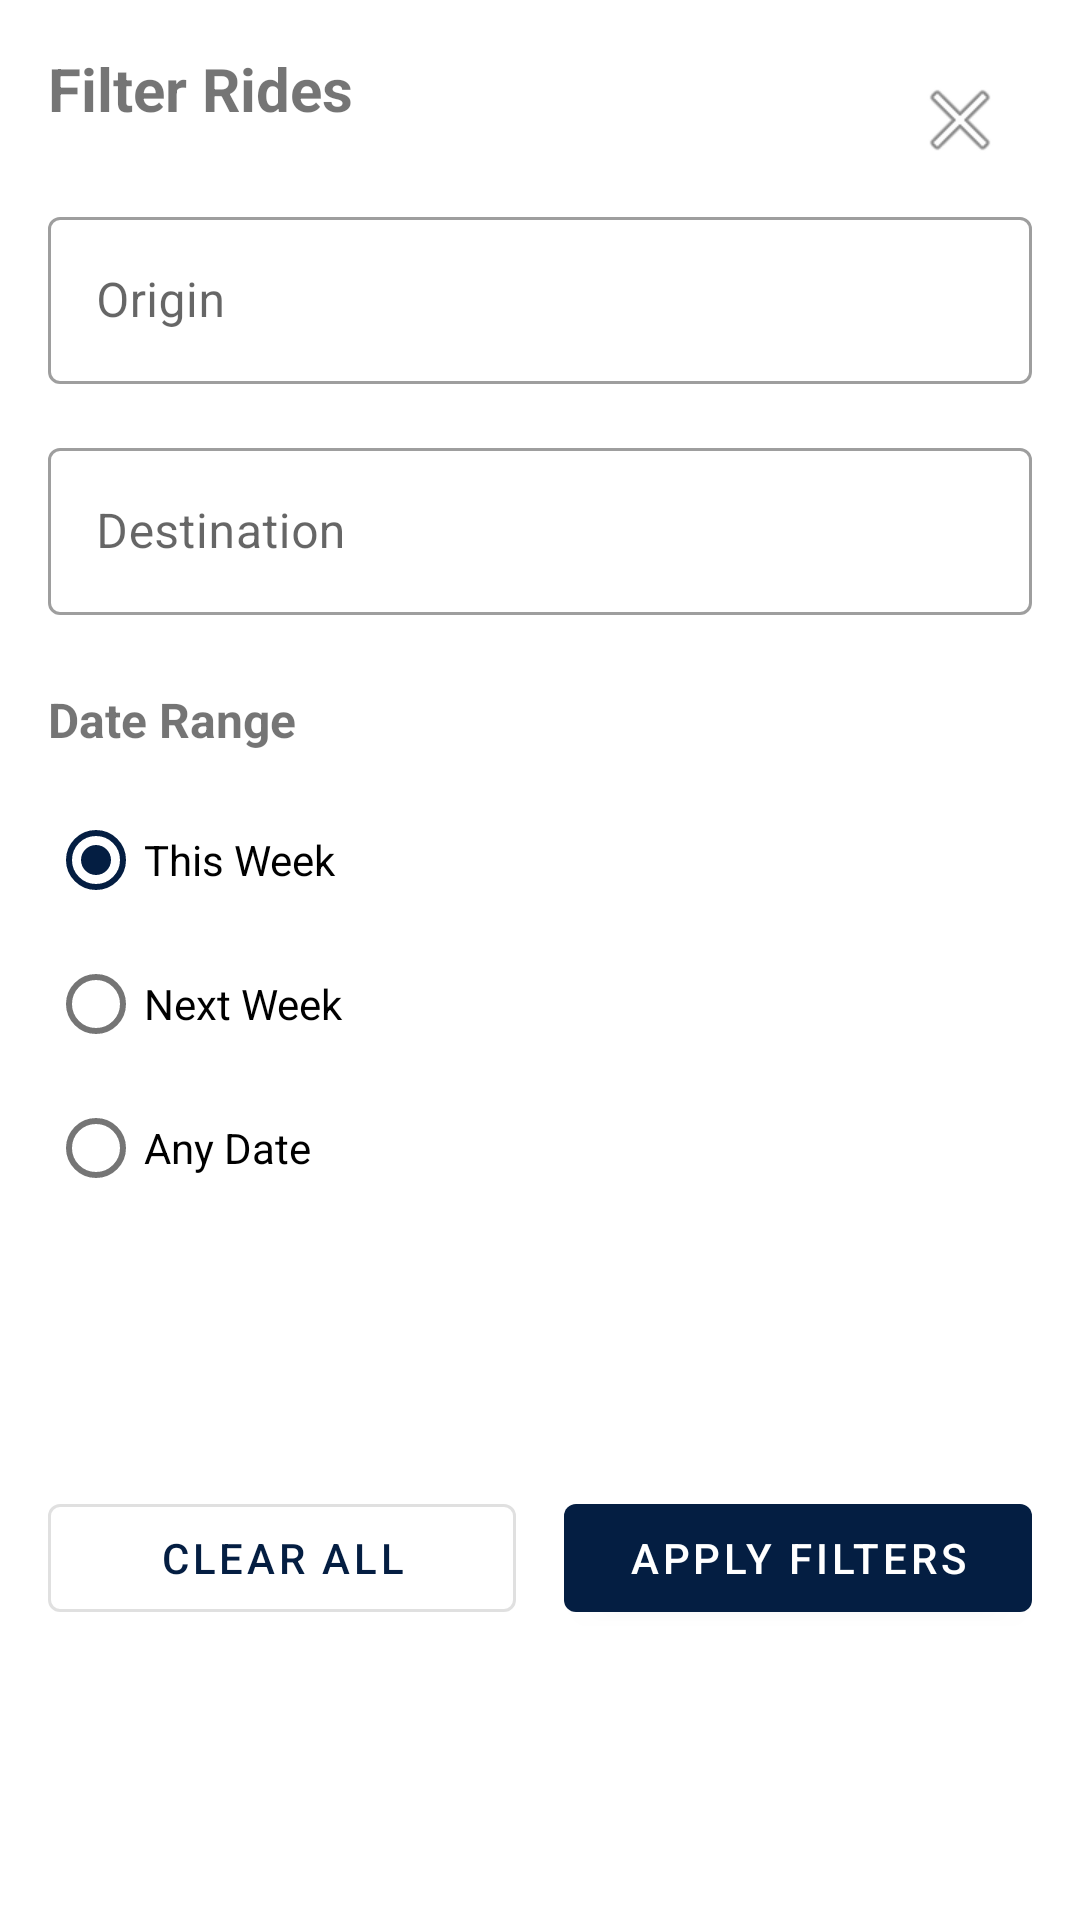

Locate icon controls on the screen. Image size 1080px×1920px, boxes as (x1, y1, x2, y2).
Close filter menu: (930, 90, 990, 150)
